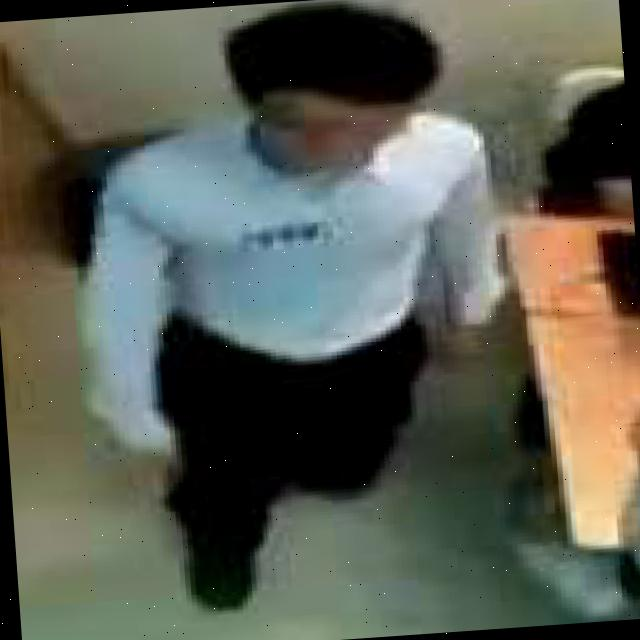tag: (242, 220, 340, 252)
